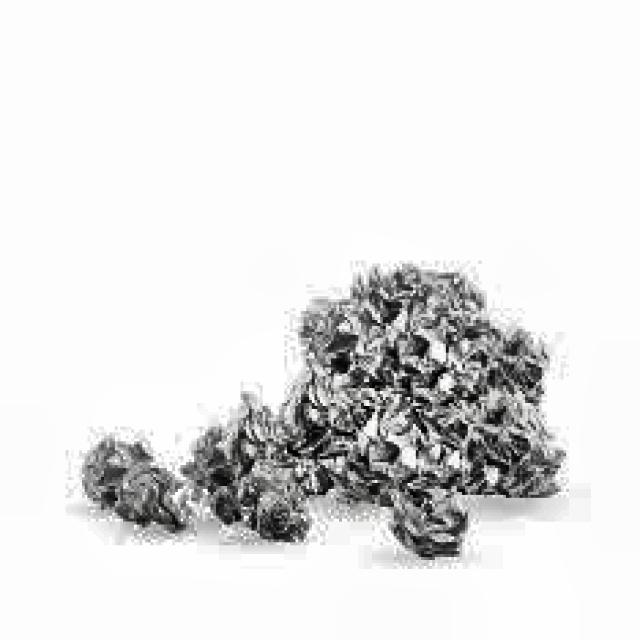Foil: (62, 245, 573, 578)
